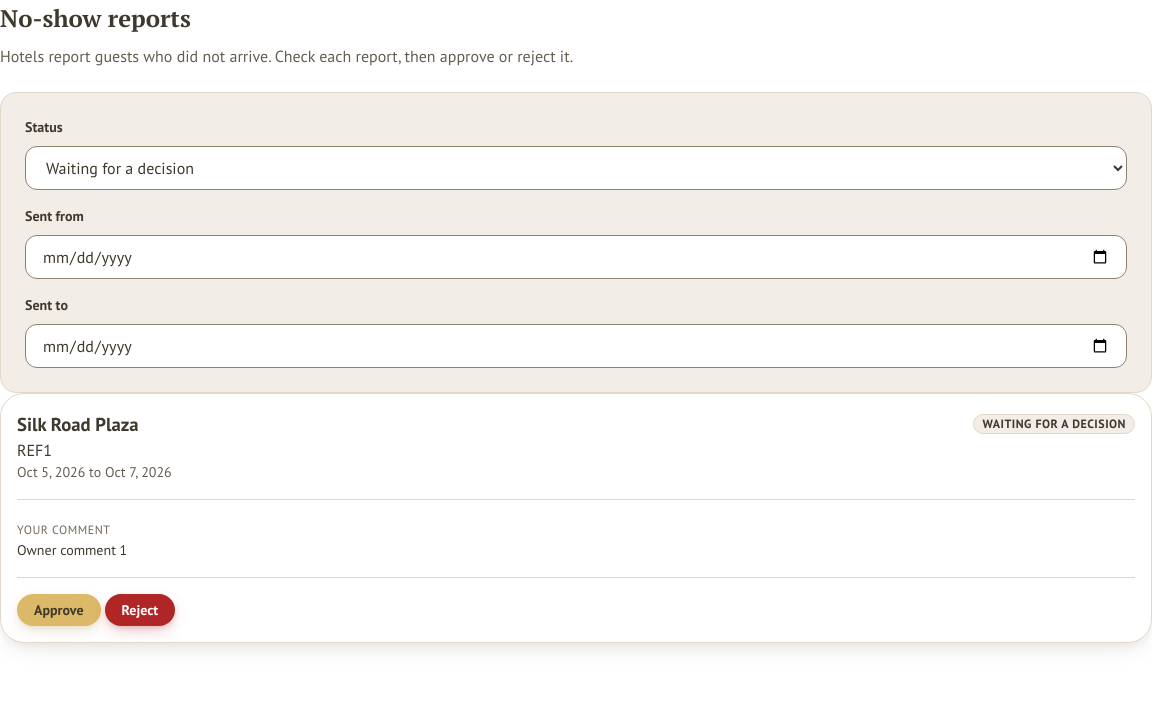
Test case: AdminNoShowReports › decisions › rejecting sends the comment to reject
Click the button "Reject": click(140, 610) [104,594,175,626]
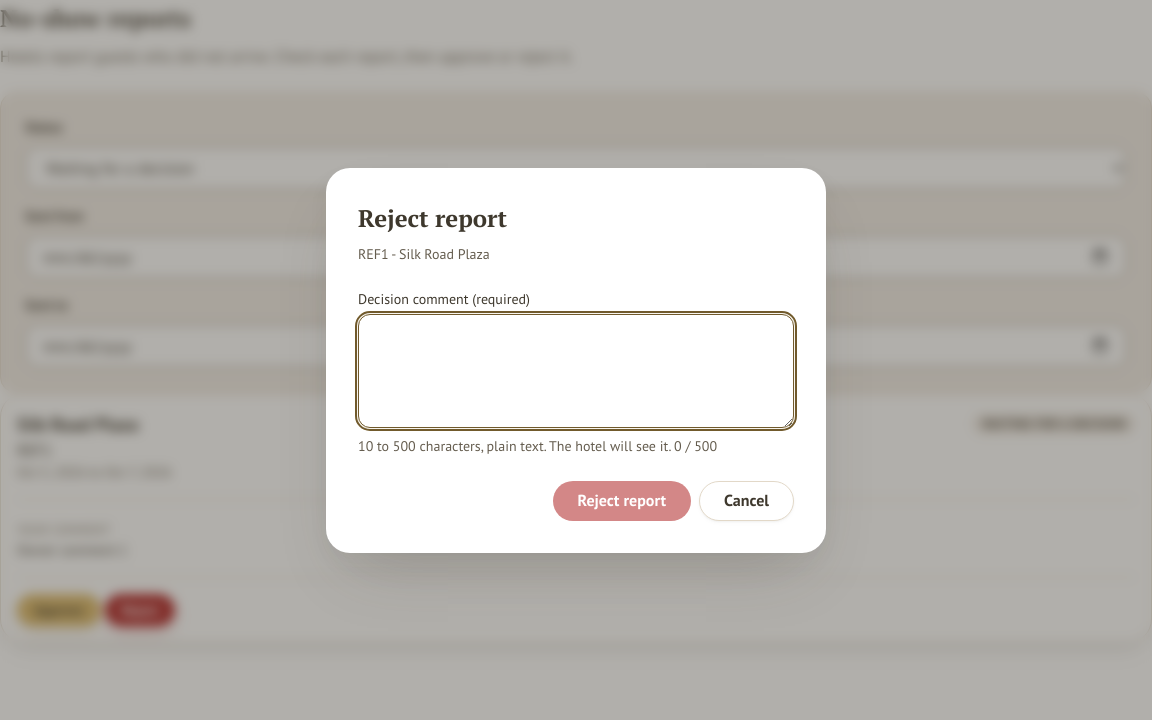
In the text box labelled "Decision comment (required)": (576, 370) [358,314,794,428], type "Checked with the hotel and the guest."
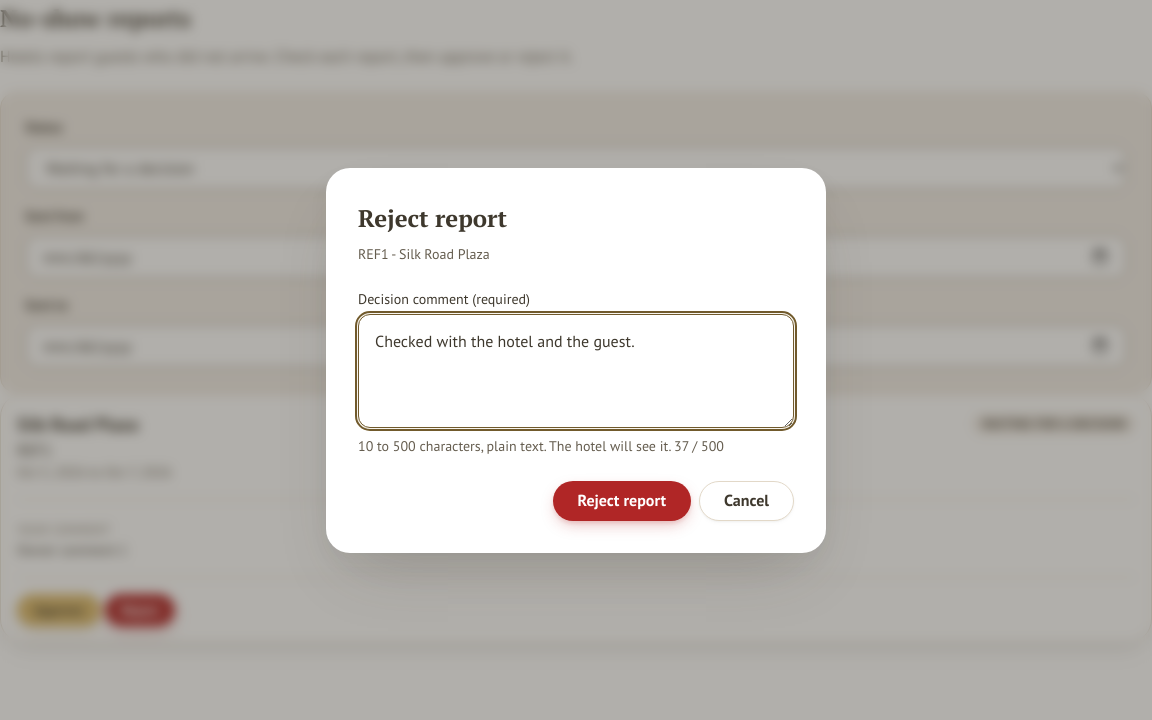
Click the button "Reject report": click(622, 500) [552,480,691,520]
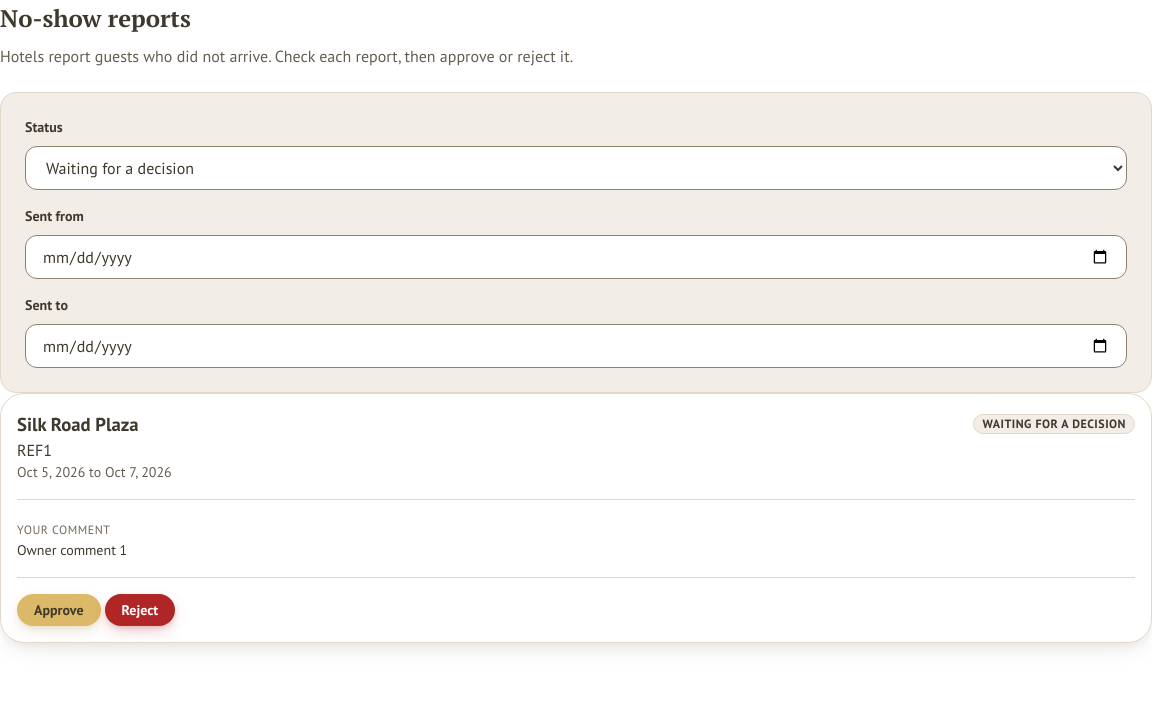
Result: the dialog is gone
